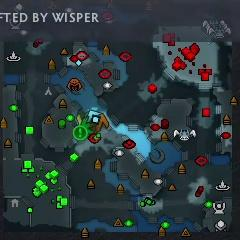x2: (76, 113, 83, 126)
x3: (87, 109, 101, 123)
x4: (80, 112, 97, 135)
x5: (95, 113, 110, 133)
